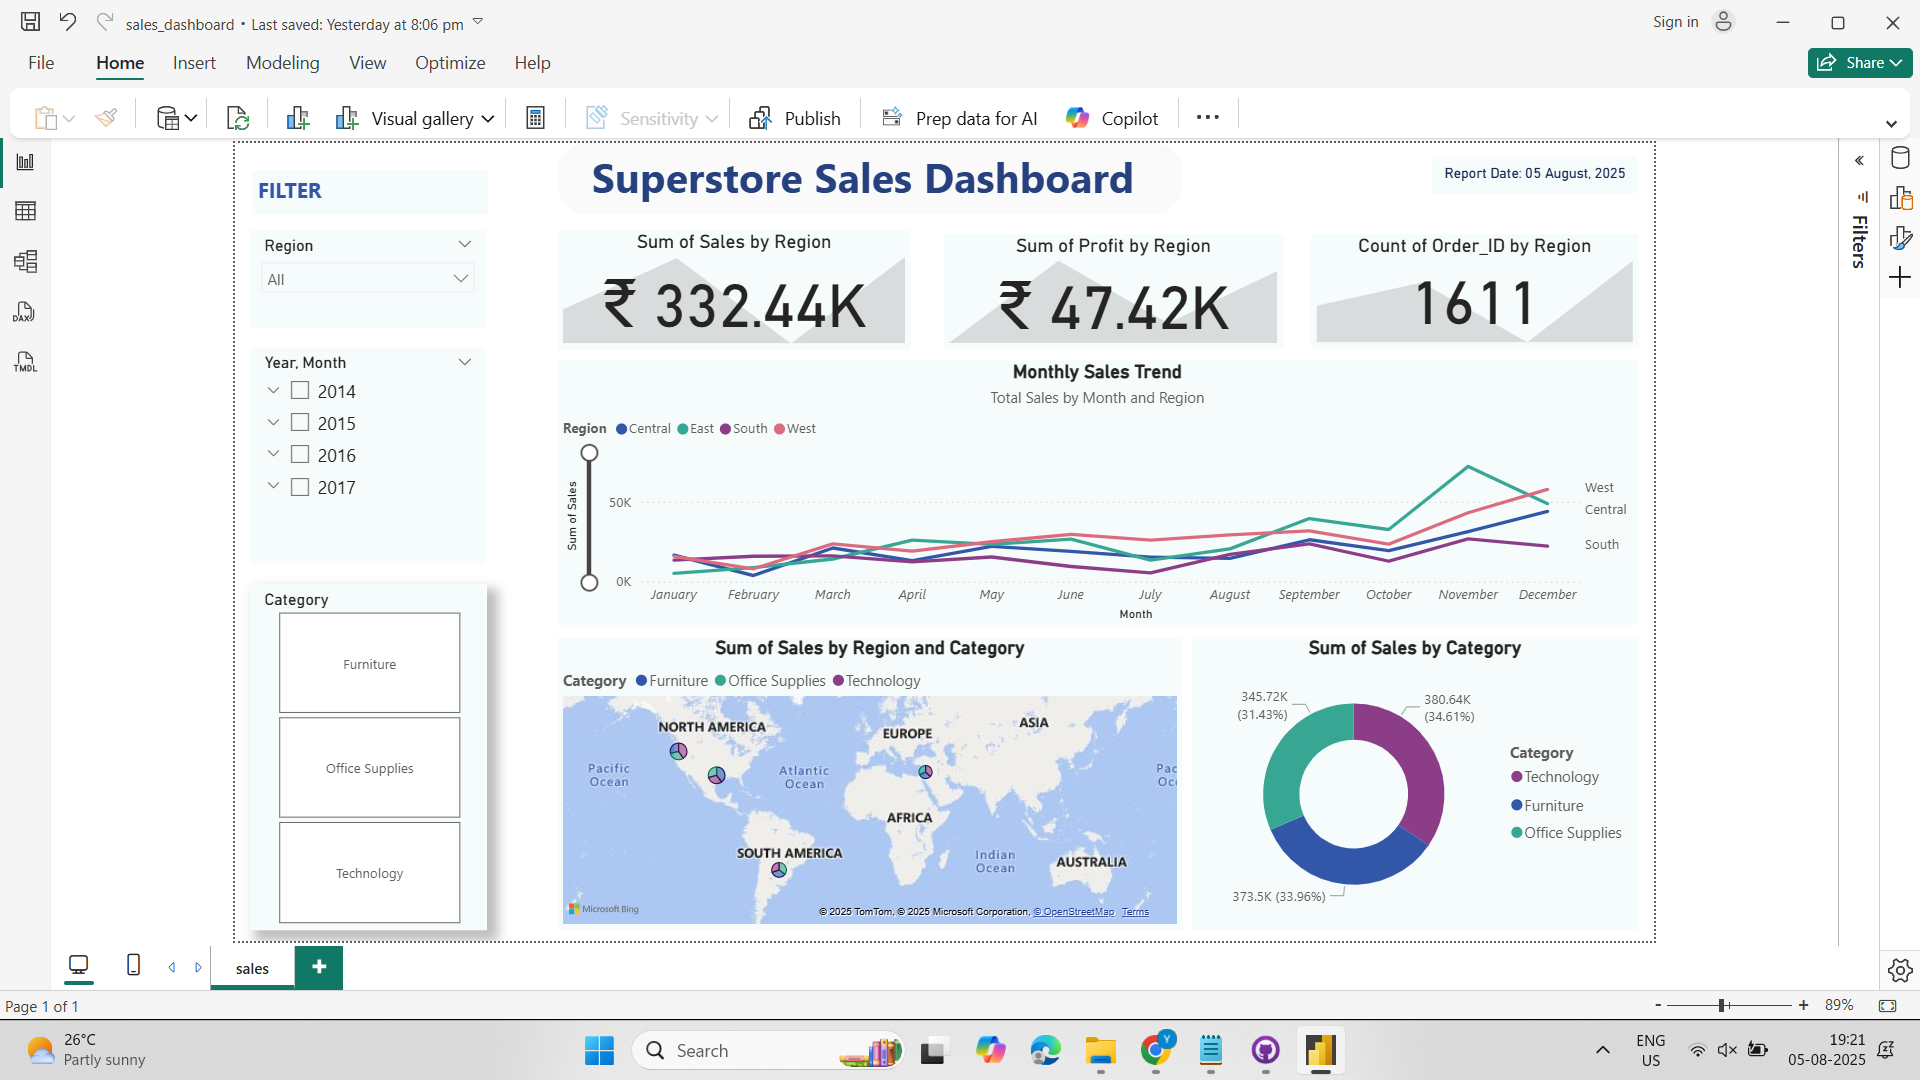

The dashboard page shown, as its layout file describes it:
{"tool":"powerbi","page":{"name":"Page 1","canvas":[1280,720],"ordinal":0},"visuals":[{"type":"kpi","fields":{"Indicator":["Sum(sales_data.Profit)"],"TrendLine":["sales_data.Region"]},"box":[639.4,82.1,306,103.2],"z":0},{"type":"kpi","fields":{"Indicator":["Count(sales_data.Order_ID)"],"TrendLine":["sales_data.Region"]},"box":[970,82.5,295,102.5],"z":1000},{"type":"lineChart","title":"Monthly Sales Trend","fields":{"Category":["sales_data.Order_Date.Variation.Date Hierarchy.Year","sales_data.Order_Date.Variation.Date Hierarchy.Month"],"Y":["Sum(sales_data.Sales)"],"Series":["sales_data.Region"]},"box":[291.2,196.2,973.8,238.8],"z":2000},{"type":"map","fields":{"Category":["sales_data.Region"],"Series":["sales_data.Category"],"Size":["Sum(sales_data.Sales)"]},"box":[291.1,445.3,563.5,265],"z":3000},{"type":"kpi","fields":{"Indicator":["Sum(sales_data.Sales)"],"TrendLine":["sales_data.Region"]},"box":[291.1,78.4,318.5,107],"z":4000},{"type":"donutChart","fields":{"Category":["sales_data.Category"],"Y":["Sum(sales_data.Sales)"]},"box":[863.8,445,401.2,265],"z":5000},{"type":"slicer","fields":{"Values":["sales_data.Region"]},"box":[13.7,78.4,212.7,87.1],"z":6000},{"type":"slicer","fields":{"Values":["sales_data.Category"]},"box":[13.7,398.1,214,312.2],"z":7000},{"type":"slicer","fields":{"Values":["sales_data.Order_Date.Variation.Date Hierarchy.Year","sales_data.Order_Date.Variation.Date Hierarchy.Month"]},"box":[13.7,185.3,212.7,194.1],"z":8000},{"type":"textbox","box":[16.2,24.9,212.7,39.8],"z":9000},{"type":"shape","box":[290.8,0,563.6,64.2],"z":10000},{"type":"textbox","box":[317.2,0,510,61],"z":11000},{"type":"textbox","box":[1080,12.5,185,32.5],"z":12000}]}

Visuals, with their boxes on the page's 1280x720 design canvas (x1, y1, x2, y2). These are canvas units, not pixel positions in the 1920x1080 screenshot, which may show the page scaled, cropped or inside an application window:
kpi - Sum(sales_data.Profit) x sales_data.Region: left=639, top=82, right=945, bottom=185
kpi - Count(sales_data.Order_ID) x sales_data.Region: left=970, top=82, right=1265, bottom=185
"Monthly Sales Trend" lineChart: left=291, top=196, right=1265, bottom=435
map - sales_data.Region x sales_data.Category: left=291, top=445, right=855, bottom=710
kpi - Sum(sales_data.Sales) x sales_data.Region: left=291, top=78, right=610, bottom=185
donutChart - sales_data.Category x Sum(sales_data.Sales): left=864, top=445, right=1265, bottom=710
slicer - sales_data.Region: left=14, top=78, right=226, bottom=166
slicer - sales_data.Category: left=14, top=398, right=228, bottom=710
slicer - sales_data.Order_Date.Variation.Date Hierarchy.Year x sales_data.Order_Date.Variation.Date Hierarchy.Month: left=14, top=185, right=226, bottom=379
textbox: left=16, top=25, right=229, bottom=65
shape: left=291, top=0, right=854, bottom=64
textbox: left=317, top=0, right=827, bottom=61
textbox: left=1080, top=12, right=1265, bottom=45
